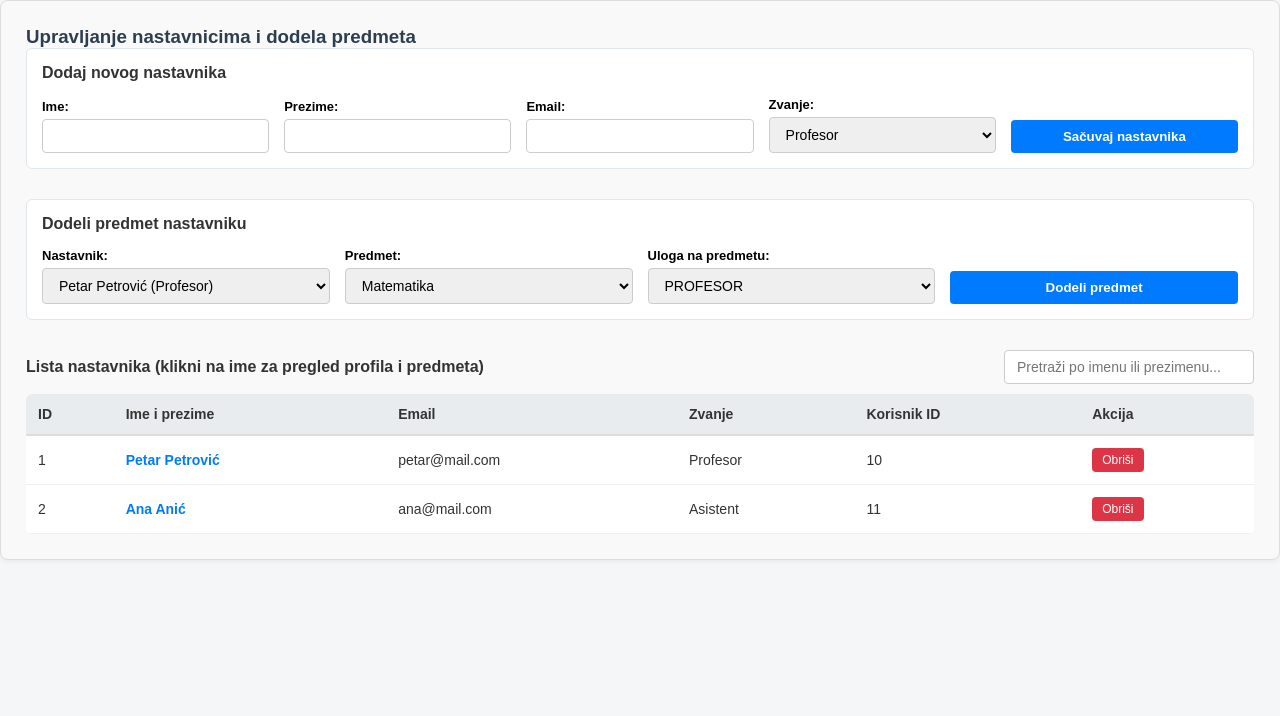
AdminNastavnici Component - Comprehensive Tests › uspešno briše nastavnika i čisti selektovani profil ako je bio prikazan
# Prvo selektujemo profesora da se prikaže dosije
Click the text "Petar Petrović". click: (143, 460)
box: x1=114 y1=435 x2=386 y2=484
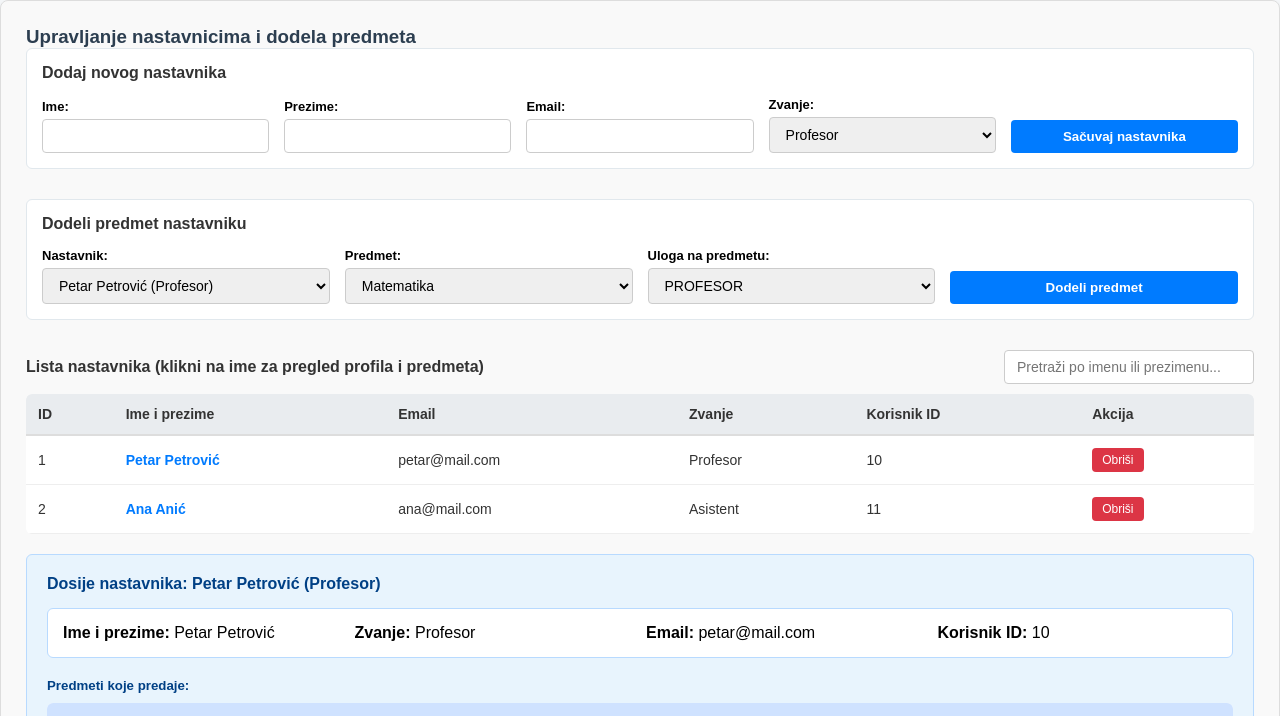
Expected: the heading "Dosije nastavnika: Petar Petrović (Profesor)" is shown, x1=47 y1=575 x2=380 y2=592
# Brisanje prvog nastavnika
Click the 1st button "Obriši". click: (1118, 460)
box: x1=1092 y1=448 x2=1144 y2=472
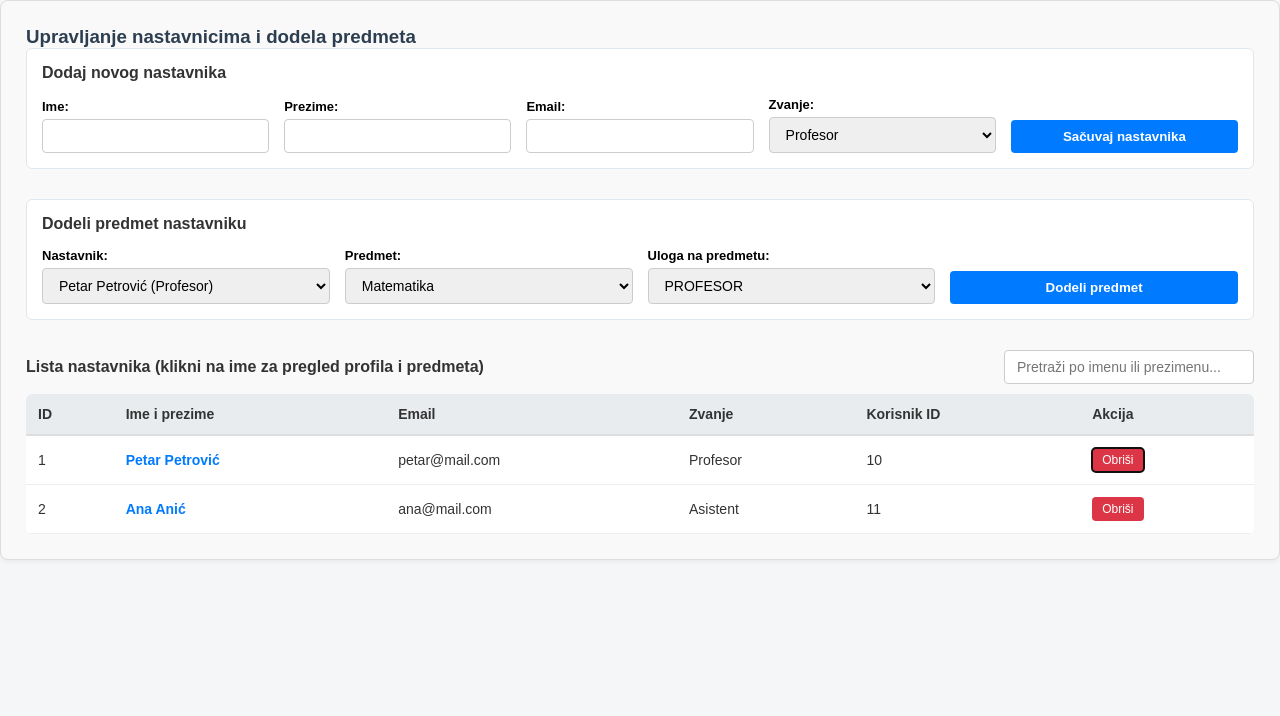
Expected: the heading "Dosije nastavnika:" is gone
